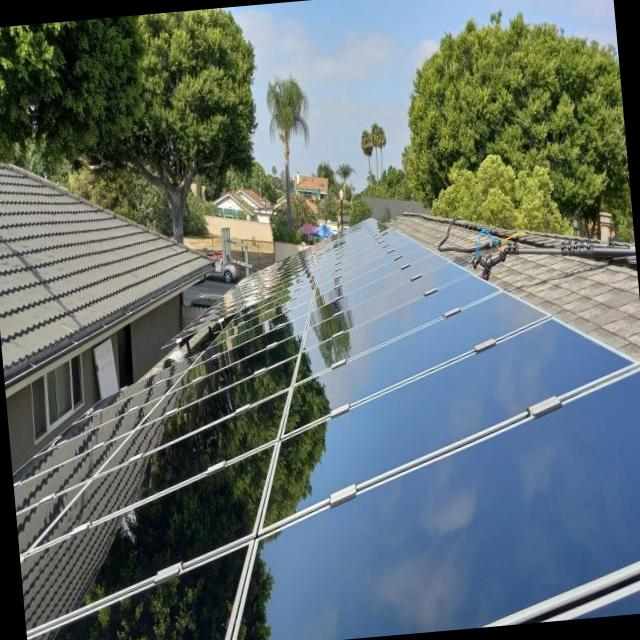no faulty: (241, 382, 640, 640), (265, 320, 631, 525), (23, 443, 270, 628), (30, 391, 291, 548), (288, 291, 543, 430), (101, 357, 296, 470), (41, 540, 251, 640), (296, 276, 497, 380), (141, 333, 303, 425), (16, 399, 158, 481), (15, 437, 125, 511), (16, 487, 83, 556)
